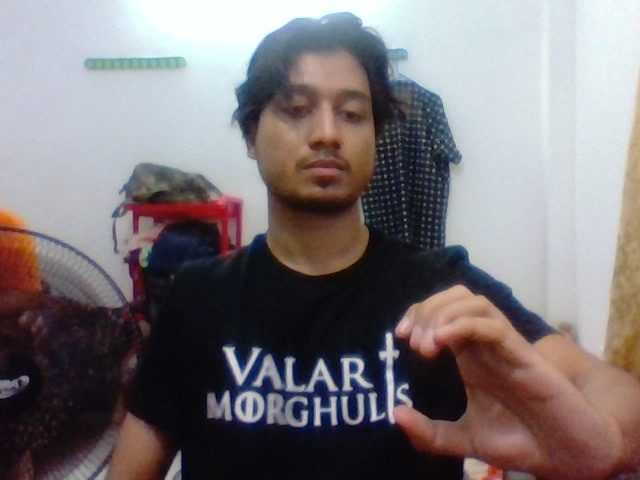C: (380, 272, 567, 470)
